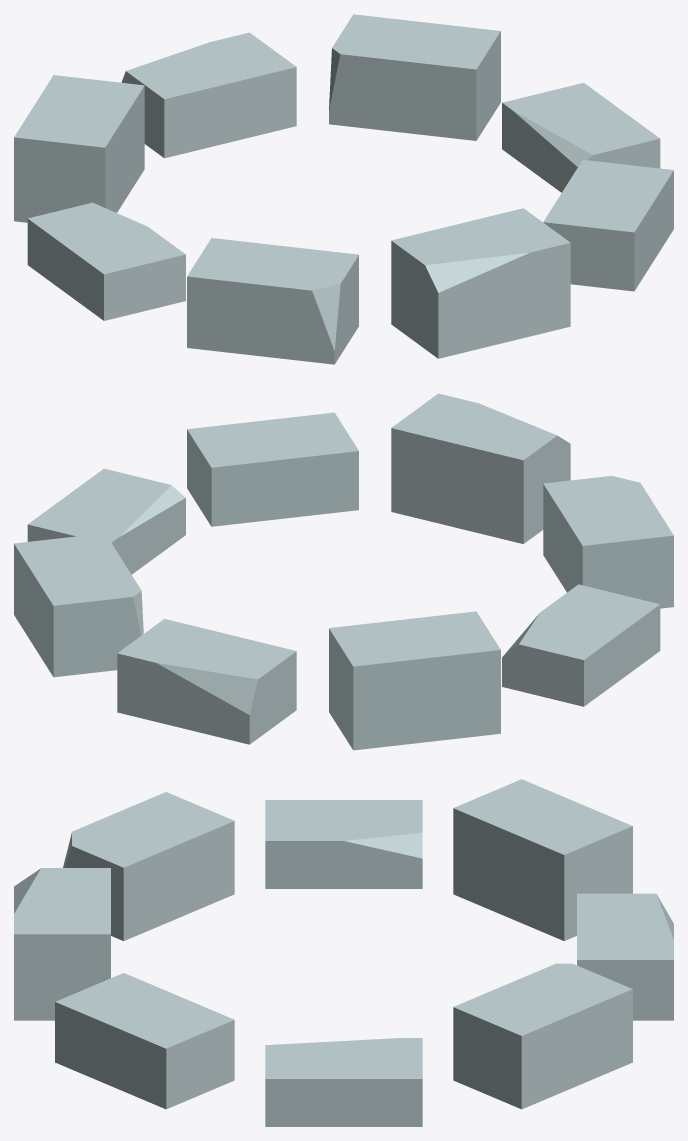
The model's file is campfire_bricks.gltf.
The picture shows the model from 3 angles, top to bottom: view 1: azimuth 30°, elevation 25°; view 2: azimuth 150°, elevation 25°; view 3: azimuth 270°, elevation 25°; orthographic projection. The views are drawn at different scales.
Visible parts, largest first — view 1: campfire_bricks; view 2: campfire_bricks; view 3: campfire_bricks.
Part boxes in pixels (x1=…): campfire_bricks: x1=14, y1=14, x2=673, y2=364; campfire_bricks: x1=14, y1=393, x2=673, y2=750; campfire_bricks: x1=14, y1=779, x2=673, y2=1126.
Bounding box in the file's own units: 0.4692 × 0.0676 × 0.4692.
